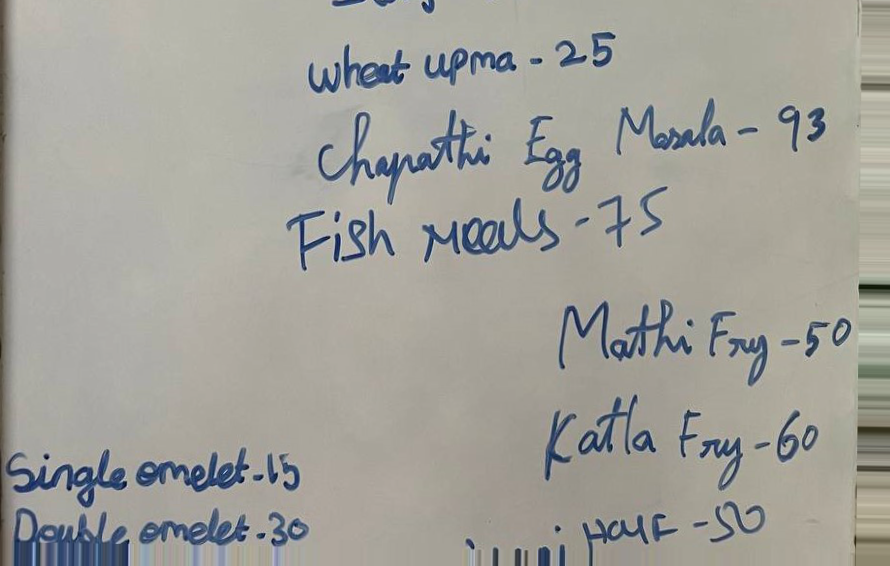chapathi egg masala - 93: (316, 101, 834, 189)
double omelet - 30: (9, 499, 316, 551)
fish Meals - 75: (285, 193, 689, 272)
katla fry - 60: (537, 396, 826, 492)
mathi fry - 50: (551, 289, 858, 387)
single omelet - 15: (2, 449, 315, 503)
wheat upma - 25: (300, 28, 622, 91)
